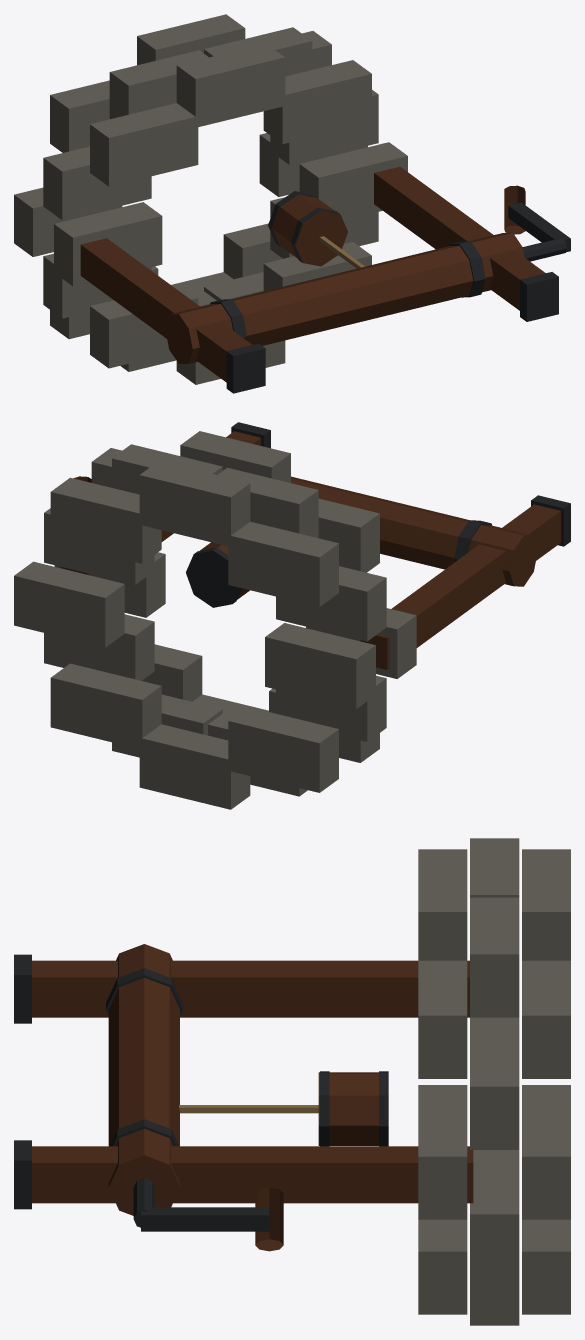
The picture shows the model from 3 angles, top to bottom: view 1: azimuth 30°, elevation 25°; view 2: azimuth 150°, elevation 25°; view 3: azimuth 270°, elevation 25°; orthographic projection. The views are drawn at different scales.
Visible parts, largest first — view 1: oak_windlass, stone_2_3, oak_upright_-1, stone_2_2, oak_upright_1, stone_2_1, stone_2_4, stone_2_0, stone_1_3, stone_2_5, stone_1_2, bucket (+23 smaller); view 2: oak_windlass, oak_upright_-1, stone_0_4, stone_0_0, stone_0_5, stone_0_3, stone_0_7, stone_0_2, stone_0_1, stone_0_6, stone_1_3, stone_1_7 (+18 smaller); view 3: oak_upright_1, oak_upright_-1, oak_windlass, stone_1_1, stone_1_0, stone_2_0, stone_2_1, stone_1_7, stone_0_0, stone_0_1, stone_2_2, stone_0_2 (+18 smaller).
Part boxes in pixels (left/top/right/bottom): oak_windlass: left=165, top=232, right=524, bottom=363; stone_2_3: left=90, top=103, right=198, bottom=186; oak_upright_-1: left=80, top=238, right=252, bottom=382; stone_2_2: left=176, top=43, right=285, bottom=127; oak_upright_1: left=374, top=166, right=545, bottom=310; stone_2_1: left=263, top=60, right=371, bottom=144; stone_2_4: left=54, top=202, right=162, bottom=286; stone_2_0: left=299, top=142, right=407, bottom=220; stone_1_3: left=43, top=146, right=151, bottom=220; stone_2_5: left=90, top=284, right=198, bottom=368; stone_1_2: left=109, top=50, right=208, bottom=119; bucket: left=272, top=194, right=347, bottom=266; oak_windlass: left=291, top=476, right=537, bottom=586; oak_upright_-1: left=360, top=504, right=560, bottom=669; stone_0_4: left=265, top=623, right=375, bottom=708; stone_0_0: left=14, top=561, right=124, bottom=647; stone_0_5: left=228, top=707, right=338, bottom=792; stone_0_3: left=228, top=521, right=338, bottom=606; stone_0_7: left=50, top=663, right=161, bottom=749; stone_0_2: left=139, top=461, right=250, bottom=546; stone_0_1: left=50, top=477, right=161, bottom=563; stone_0_6: left=139, top=724, right=250, bottom=809; stone_1_3: left=276, top=566, right=386, bottom=641; stone_1_7: left=44, top=614, right=154, bottom=680; oak_upright_1: left=32, top=1146, right=473, bottom=1203; oak_upright_-1: left=32, top=960, right=469, bottom=1017; oak_windlass: left=108, top=944, right=179, bottom=1215; stone_1_1: left=470, top=897, right=519, bottom=1017; stone_1_0: left=470, top=1030, right=519, bottom=1149; stone_2_0: left=418, top=1100, right=467, bottom=1219; stone_2_1: left=418, top=960, right=467, bottom=1078; stone_1_7: left=470, top=1157, right=519, bottom=1277; stone_0_0: left=522, top=1100, right=570, bottom=1219; stone_0_1: left=522, top=960, right=570, bottom=1078; stone_2_2: left=418, top=855, right=467, bottom=960; stone_0_2: left=522, top=855, right=570, bottom=960.
Size of the model in its own units: 3.3 by 2.45 by 3.12.
